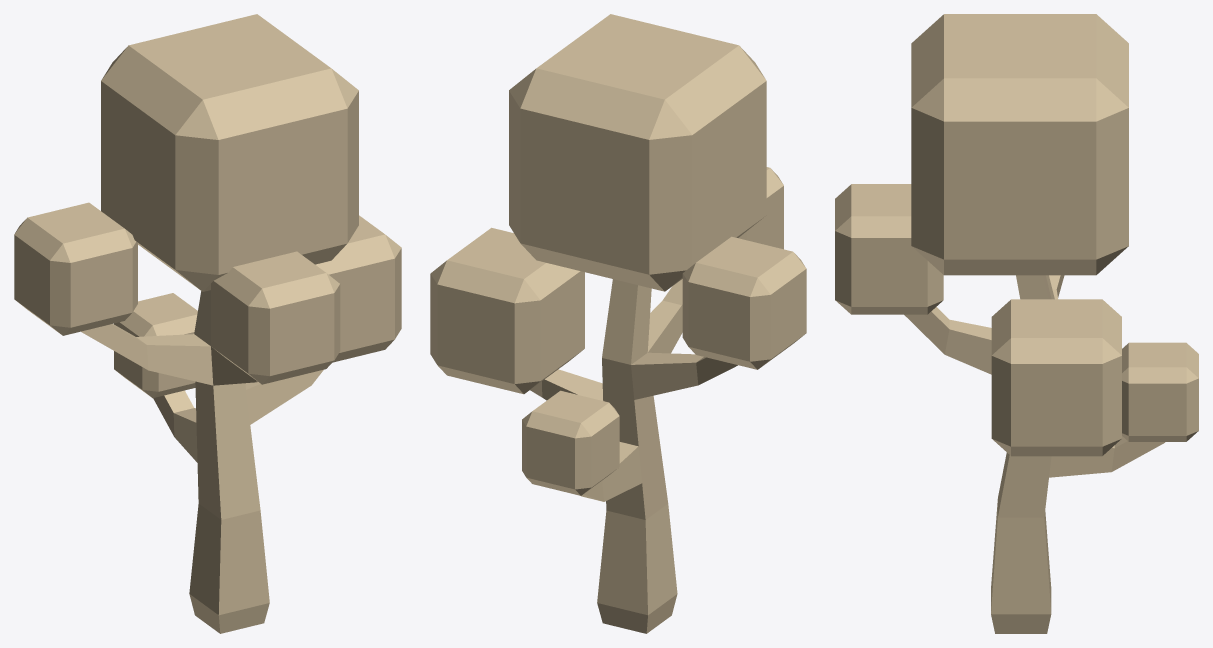
The model's file is naturePack_161.fbx.
3 renders of one model, left to right at view 1: azimuth 30°, elevation 25°; view 2: azimuth 150°, elevation 25°; view 3: azimuth 270°, elevation 25°, orthographic. The views are drawn at different scales.
Parts seen in each view (by area): view 1: naturePack_161; view 2: naturePack_161; view 3: naturePack_161.
Part boxes in pixels (box(x1,y1,x2,y2)): naturePack_161: box(14, 14, 401, 633); naturePack_161: box(430, 14, 806, 633); naturePack_161: box(835, 14, 1198, 633).
Size of the model in its own units: 339 by 533 by 305.
